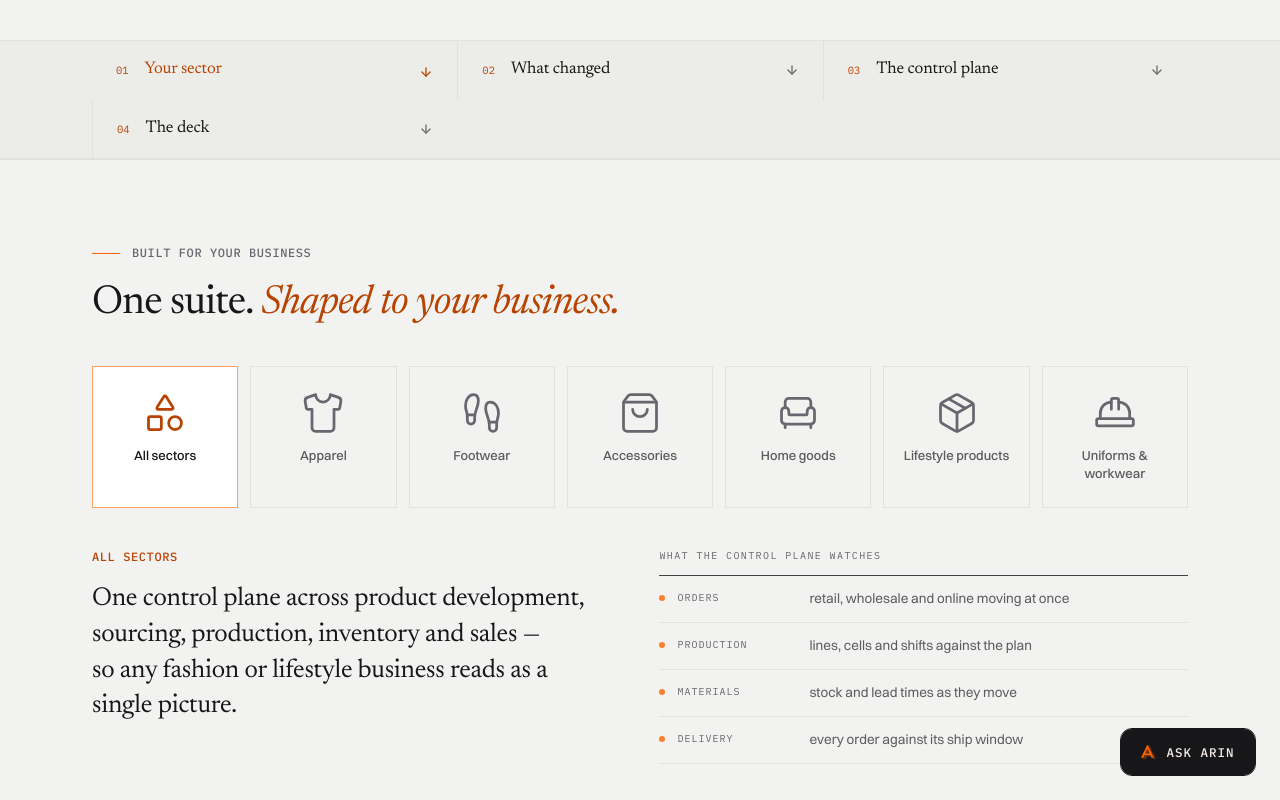
Test: sector line sheet (Fashion & Lifestyle OS) › defaults to All sectors and swaps content on selection
The image size is (1280, 800).
(page scrolled)
expect the text "every order against its ship window" is shown: met, box [809,731,1023,747]
Click the button "Footwear" at (482, 437), box [409,366,555,508]
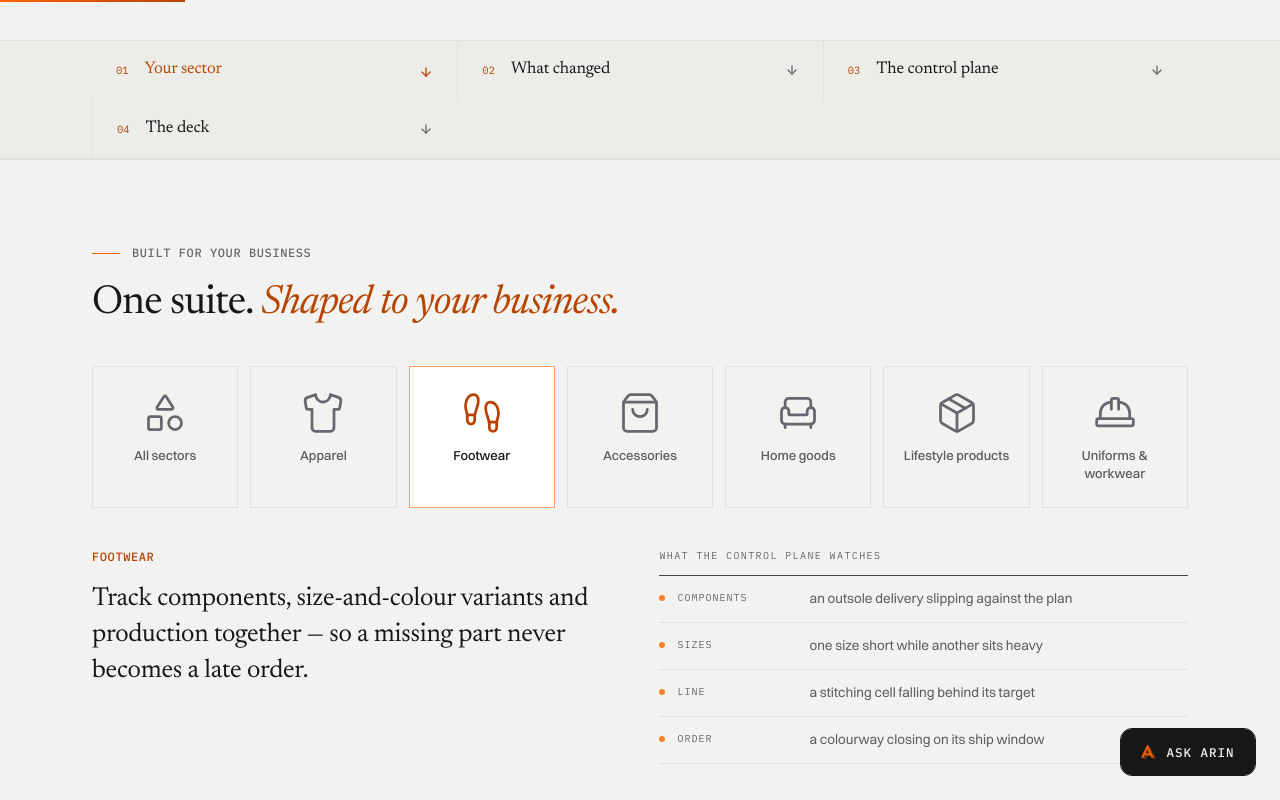
expect the text "an outsole delivery slipping against the plan" is shown: met, box [809,590,1073,606]
